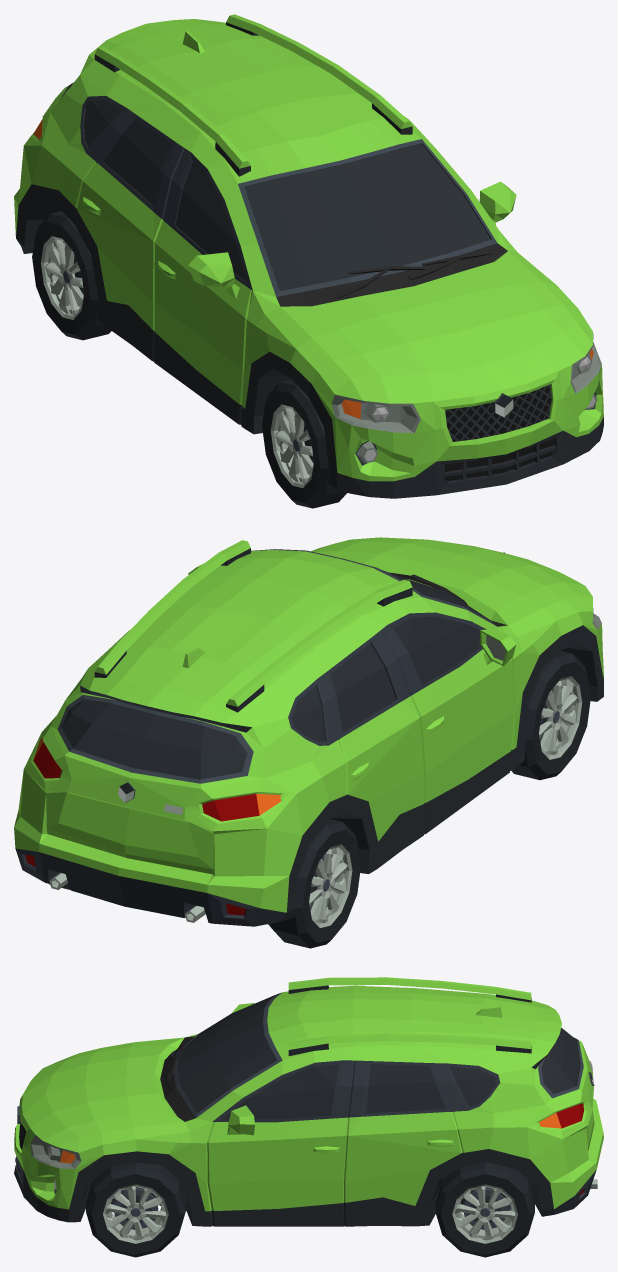
File: SUV_LightGreen.fbx
3 views of the same model, one above another, from view 1: azimuth 30°, elevation 25°; view 2: azimuth 150°, elevation 25°; view 3: azimuth 270°, elevation 25° (orthographic). The views are drawn at different scales.
Visible parts, largest first — view 1: SM_Veh_Car_Medium_01.001, SM_Veh_Car_Medium_Wheel_fr.001, SM_Veh_Car_Medium_Wheel_rr.001; view 2: SM_Veh_Car_Medium_01.001, SM_Veh_Car_Medium_Wheel_rr.001, SM_Veh_Car_Medium_Wheel_fr.001; view 3: SM_Veh_Car_Medium_01.001, SM_Veh_Car_Medium_Wheel_fl.001, SM_Veh_Car_Medium_Wheel_rl.001.
Boxes of the visible parts, x1,y1,x2,y2 form: SM_Veh_Car_Medium_01.001: [14, 14, 603, 498]; SM_Veh_Car_Medium_Wheel_fr.001: [262, 379, 346, 508]; SM_Veh_Car_Medium_Wheel_rr.001: [32, 211, 111, 340]; SM_Veh_Car_Medium_01.001: [14, 537, 603, 926]; SM_Veh_Car_Medium_Wheel_rr.001: [268, 819, 361, 948]; SM_Veh_Car_Medium_Wheel_fr.001: [511, 651, 590, 780]; SM_Veh_Car_Medium_01.001: [14, 977, 603, 1226]; SM_Veh_Car_Medium_Wheel_fl.001: [86, 1162, 185, 1257]; SM_Veh_Car_Medium_Wheel_rl.001: [435, 1162, 534, 1257].
Bounding box in the file's own units: 2.48 × 1.98 × 5.22.
